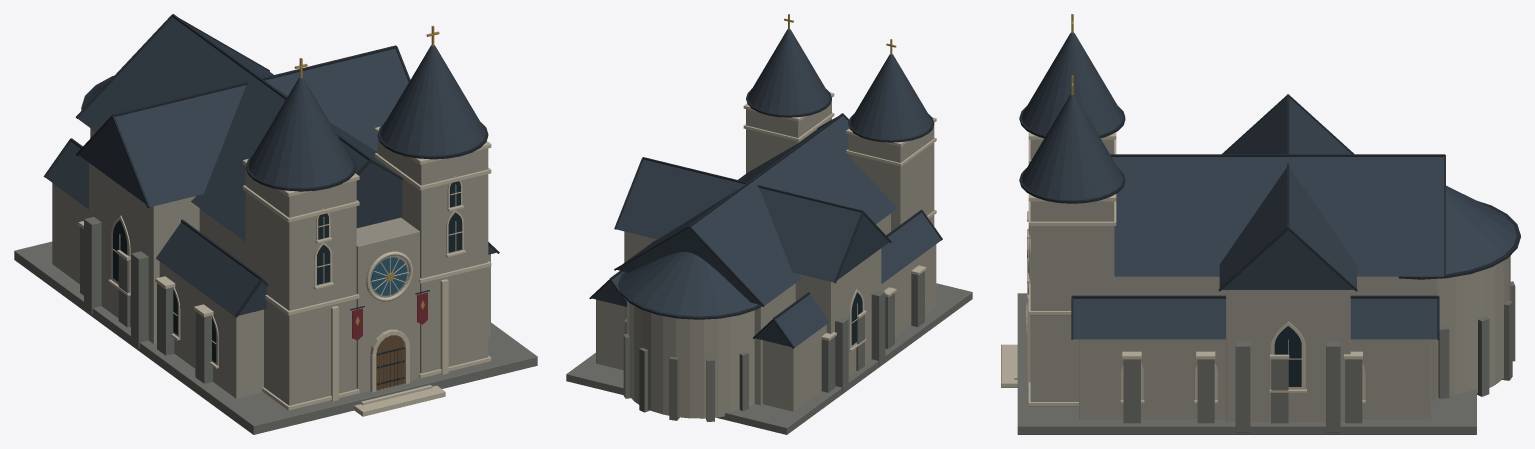
Rendered from Church.fbx.
The picture shows the model from 3 angles, left to right: view 1: azimuth 30°, elevation 25°; view 2: azimuth 150°, elevation 25°; view 3: azimuth 270°, elevation 25°; orthographic projection. The views are drawn at different scales.
Visible parts, largest first — view 1: Church bell tower.002, Church transept roof.001, Church nave slate roof.001, Church bell tower.003, Church foundation.001, Church aisle.002, Church bell tower spire.003, Church bell tower spire.002, Church transept.001, Church front gable.001, Church aisle roof.002, Transept corner buttress.004 (+21 smaller); view 2: Church nave slate roof.001, Church transept roof.001, Church apse.001, Church aisle.002, Church foundation.001, Church apse roof.001, Church bell tower.002, Church transept.001, Church bell tower spire.002, Church bell tower spire.003, Church aisle roof.002, Church bell tower.003 (+19 smaller); view 3: Church nave slate roof.001, Church aisle.003, Church transept roof.001, Church bell tower.003, Church transept.001, Church aisle roof.003, Church foundation.001, Church apse.001, Church bell tower spire.003, Church bell tower spire.002, Church apse roof.001, Church nave.001 (+17 smaller).
Part boxes in pixels (x1=…): Church bell tower.002: x1=245, y1=166, x2=356, y2=405; Church transept roof.001: x1=79, y1=48, x2=408, y2=206; Church nave slate roof.001: x1=77, y1=17, x2=402, y2=241; Church bell tower.003: x1=377, y1=136, x2=488, y2=373; Church foundation.001: x1=14, y1=241, x2=537, y2=434; Church aisle.002: x1=52, y1=183, x2=263, y2=398; Church bell tower spire.003: x1=380, y1=45, x2=485, y2=155; Church bell tower spire.002: x1=248, y1=77, x2=353, y2=187; Church transept.001: x1=89, y1=163, x2=199, y2=343; Church front gable.001: x1=356, y1=217, x2=419, y2=393; Church aisle roof.002: x1=45, y1=142, x2=266, y2=315; Transept corner buttress.004: x1=131, y1=251, x2=148, y2=348; Church nave slate roof.001: x1=617, y1=116, x2=897, y2=305; Church transept roof.001: x1=616, y1=159, x2=888, y2=282; Church apse.001: x1=627, y1=301, x2=754, y2=418; Church aisle.002: x1=762, y1=244, x2=936, y2=411; Church foundation.001: x1=566, y1=283, x2=972, y2=434; Church apse roof.001: x1=622, y1=252, x2=757, y2=316; Church bell tower.002: x1=848, y1=125, x2=934, y2=231; Church transept.001: x1=624, y1=231, x2=881, y2=375; Church bell tower spire.002: x1=850, y1=54, x2=932, y2=139; Church bell tower spire.003: x1=748, y1=29, x2=829, y2=114; Church aisle roof.002: x1=755, y1=212, x2=941, y2=347; Church bell tower.003: x1=746, y1=100, x2=831, y2=173; Church nave slate roof.001: x1=1112, y1=157, x2=1443, y2=276; Church aisle.003: x1=1079, y1=339, x2=1431, y2=419; Church transept roof.001: x1=1219, y1=97, x2=1356, y2=289; Church bell tower.003: x1=1030, y1=201, x2=1114, y2=401; Church transept.001: x1=1226, y1=290, x2=1350, y2=421; Church aisle roof.003: x1=1073, y1=298, x2=1437, y2=339; Church foundation.001: x1=1017, y1=293, x2=1476, y2=434; Church apse.001: x1=1436, y1=256, x2=1510, y2=396; Church bell tower spire.003: x1=1022, y1=94, x2=1122, y2=200; Church bell tower spire.002: x1=1022, y1=32, x2=1122, y2=135; Church apse roof.001: x1=1446, y1=185, x2=1516, y2=274; Church nave.001: x1=1114, y1=276, x2=1435, y2=400.
Bounding box in the file's own units: 19.34 × 21.75 × 31.68.
